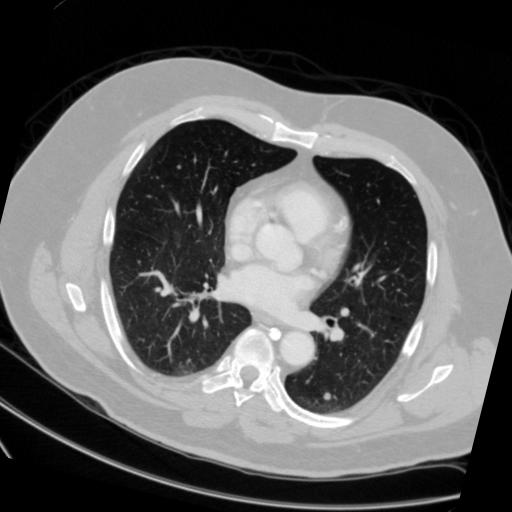nodule: (319, 389, 335, 405)
